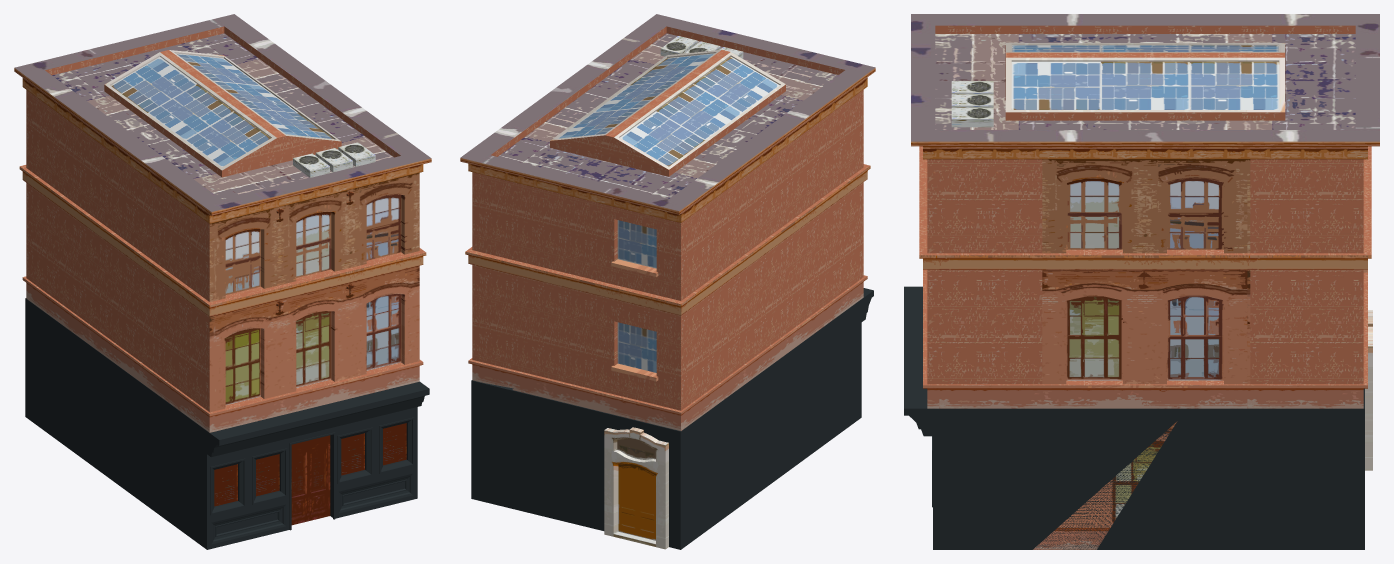
The model's file is A12_Destr.FBX.
The picture shows the model from 3 angles, left to right: view 1: azimuth 30°, elevation 25°; view 2: azimuth 150°, elevation 25°; view 3: azimuth 270°, elevation 25°; orthographic projection. The views are drawn at different scales.
Visible parts, largest first — view 1: K_Building_A12_00_Part_3, K_Building_A12_00_Part_5, K_Building_A12_00_Part_8, K_Building_A12_00_Part_12, K_Building_A12_00_Part_4, K_Building_A12_00_Part_11, K_Building_A12_00_Part_6, K_Building_A12_00_Part_2, K_Building_A12_00_Part_10, K_Building_A12_00_Part_9, K_Building_A12_00_Part_15; view 2: K_Building_A12_00_Part_4, K_Building_A12_00_Part_9, K_Building_A12_00_Part_12, K_Building_A12_00_Part_5, K_Building_A12_00_Part_8, K_Building_A12_00_Part_3, K_Building_A12_00_Part_13, K_Building_A12_00_Part_6, K_Building_A12_00_Part_2, K_Building_A12_00_Part_10, K_Building_A12_00_Part_15; view 3: K_Building_A12_00_Part_10, K_Building_A12_00_Part_11, K_Building_A12_00_Part_9, K_Building_A12_00_Part_8, K_Building_A12_00_Part_13, K_Building_A12_00_Part_14, K_Building_A12_00_Part_12, K_Building_A12_00_Part_7, K_Building_A12_00_Part_5, K_Building_A12_00_Part_1, K_Building_A12_00_Part_3, K_Building_A12_00_Part_4.
Boxes of the visible parts, x1,y1,x2,y2 form: K_Building_A12_00_Part_3: (158,226,399,549); K_Building_A12_00_Part_5: (84,123,279,309); K_Building_A12_00_Part_8: (184,58,431,232); K_Building_A12_00_Part_12: (14,43,202,255); K_Building_A12_00_Part_4: (22,200,113,477); K_Building_A12_00_Part_11: (353,206,429,504); K_Building_A12_00_Part_6: (108,398,392,542); K_Building_A12_00_Part_2: (102,306,162,427); K_Building_A12_00_Part_10: (208,49,401,136); K_Building_A12_00_Part_9: (113,14,282,66); K_Building_A12_00_Part_15: (60,243,117,338); K_Building_A12_00_Part_4: (509,309,768,549); K_Building_A12_00_Part_9: (460,122,631,392); K_Building_A12_00_Part_12: (581,110,775,332); K_Building_A12_00_Part_5: (717,51,875,305); K_Building_A12_00_Part_8: (581,14,807,135); K_Building_A12_00_Part_3: (812,133,873,424); K_Building_A12_00_Part_13: (471,387,536,514); K_Building_A12_00_Part_6: (763,368,851,489); K_Building_A12_00_Part_2: (759,244,817,402); K_Building_A12_00_Part_10: (508,36,626,139); K_Building_A12_00_Part_15: (714,303,771,356); K_Building_A12_00_Part_10: (933,90,1267,338); K_Building_A12_00_Part_11: (904,199,1092,549); K_Building_A12_00_Part_9: (1246,71,1379,416); K_Building_A12_00_Part_8: (911,46,1270,200); K_Building_A12_00_Part_13: (1179,375,1364,549); K_Building_A12_00_Part_14: (1032,328,1187,549); K_Building_A12_00_Part_12: (1134,14,1379,165); K_Building_A12_00_Part_7: (1069,296,1265,401); K_Building_A12_00_Part_5: (911,14,1149,60); K_Building_A12_00_Part_1: (1097,419,1227,549); K_Building_A12_00_Part_3: (904,146,927,385); K_Building_A12_00_Part_4: (1363,269,1372,470).
Size of the model in its own units: 617 by 979 by 973.
